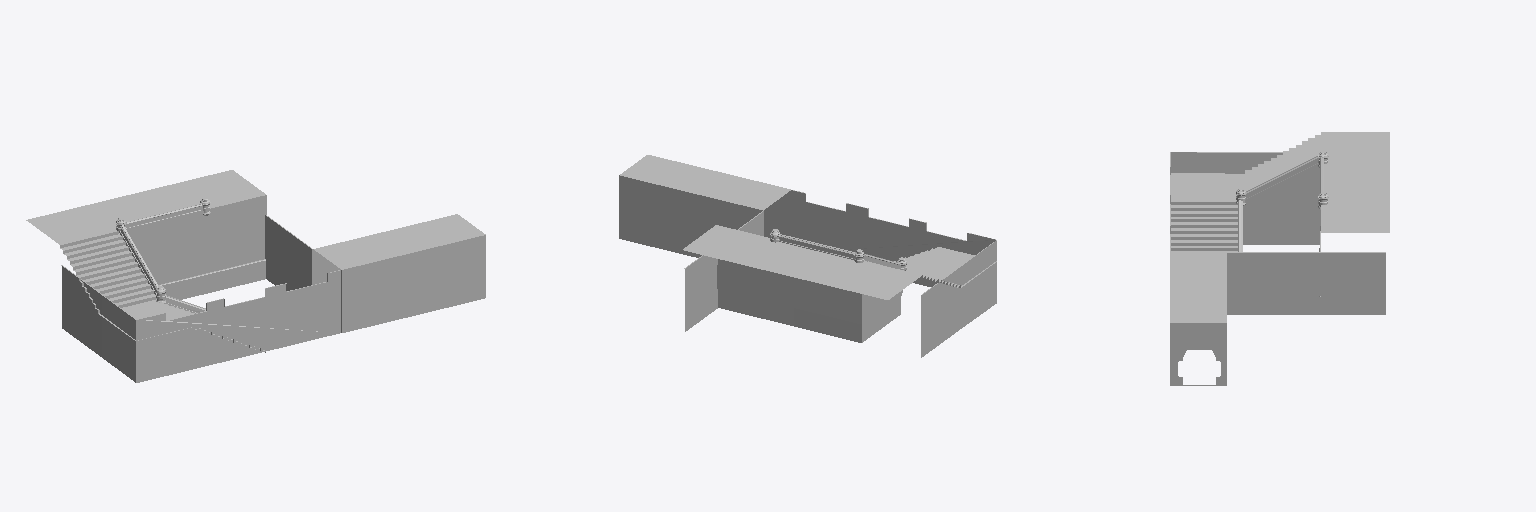
Rendered from bottom floor.obj.
The picture shows the model from 3 angles: view 1: azimuth 30°, elevation 25°; view 2: azimuth 150°, elevation 25°; view 3: azimuth 270°, elevation 25°; orthographic projection.
Visible parts, largest first — view 1: pCube16 bottome_floor group26, bottome_floor group26 pCube1, bottome_floor group26 polySurface47, bottome_floor group26 polySurface71, bottome_floor group26 polySurface48, bottome_floor group26 polySurface68; view 2: pCube16 bottome_floor group26, bottome_floor group26 pCube1, bottome_floor group26 polySurface47, bottome_floor group26 polySurface68, bottome_floor group26 polySurface48; view 3: pCube16 bottome_floor group26, bottome_floor group26 polySurface47, bottome_floor group26 pCube1, bottome_floor group26 polySurface37, bottome_floor group26 polySurface68, bottome_floor group26 polySurface71, bottome_floor group26 polySurface70.
Boxes of the visible parts, x1,y1,x2,y2 form: pCube16 bottome_floor group26: [61, 214, 485, 382]; bottome_floor group26 pCube1: [127, 195, 266, 312]; bottome_floor group26 polySurface47: [26, 170, 265, 244]; bottome_floor group26 polySurface71: [60, 231, 156, 315]; bottome_floor group26 polySurface48: [116, 197, 210, 233]; bottome_floor group26 polySurface68: [102, 302, 191, 340]; pCube16 bottome_floor group26: [619, 155, 996, 357]; bottome_floor group26 pCube1: [717, 259, 902, 342]; bottome_floor group26 polySurface47: [683, 225, 921, 299]; bottome_floor group26 polySurface68: [906, 247, 996, 285]; bottome_floor group26 polySurface48: [770, 229, 864, 262]; pCube16 bottome_floor group26: [1170, 152, 1385, 385]; bottome_floor group26 polySurface47: [1321, 132, 1389, 232]; bottome_floor group26 pCube1: [1243, 167, 1320, 296]; bottome_floor group26 polySurface37: [1171, 200, 1242, 252]; bottome_floor group26 polySurface68: [1171, 173, 1238, 201]; bottome_floor group26 polySurface71: [1239, 135, 1320, 190]; bottome_floor group26 polySurface70: [1245, 156, 1318, 202].
Bounding box in the file's own units: 2219 × 592 × 1204.